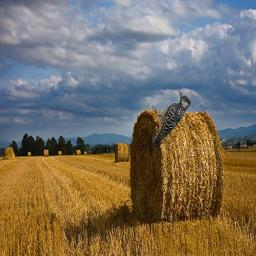Woodpecker: (152, 88, 191, 150)
